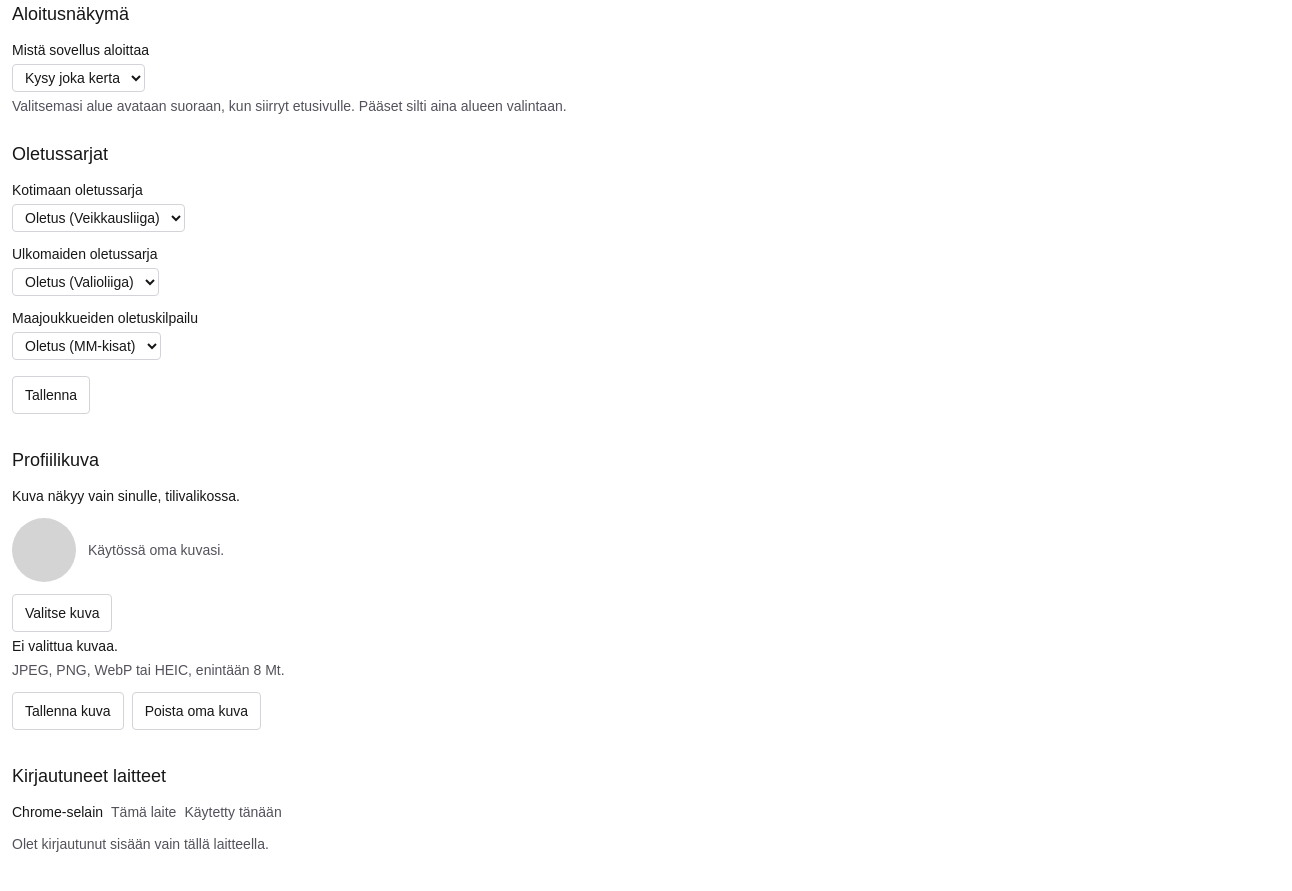
Test: Profiilikuva › reports removing one as done and asks for a reload when the session refresh fails
This screenshot has width=1292, height=891.
Click the button "Poista oma kuva": (196,711) [132, 692, 261, 730]
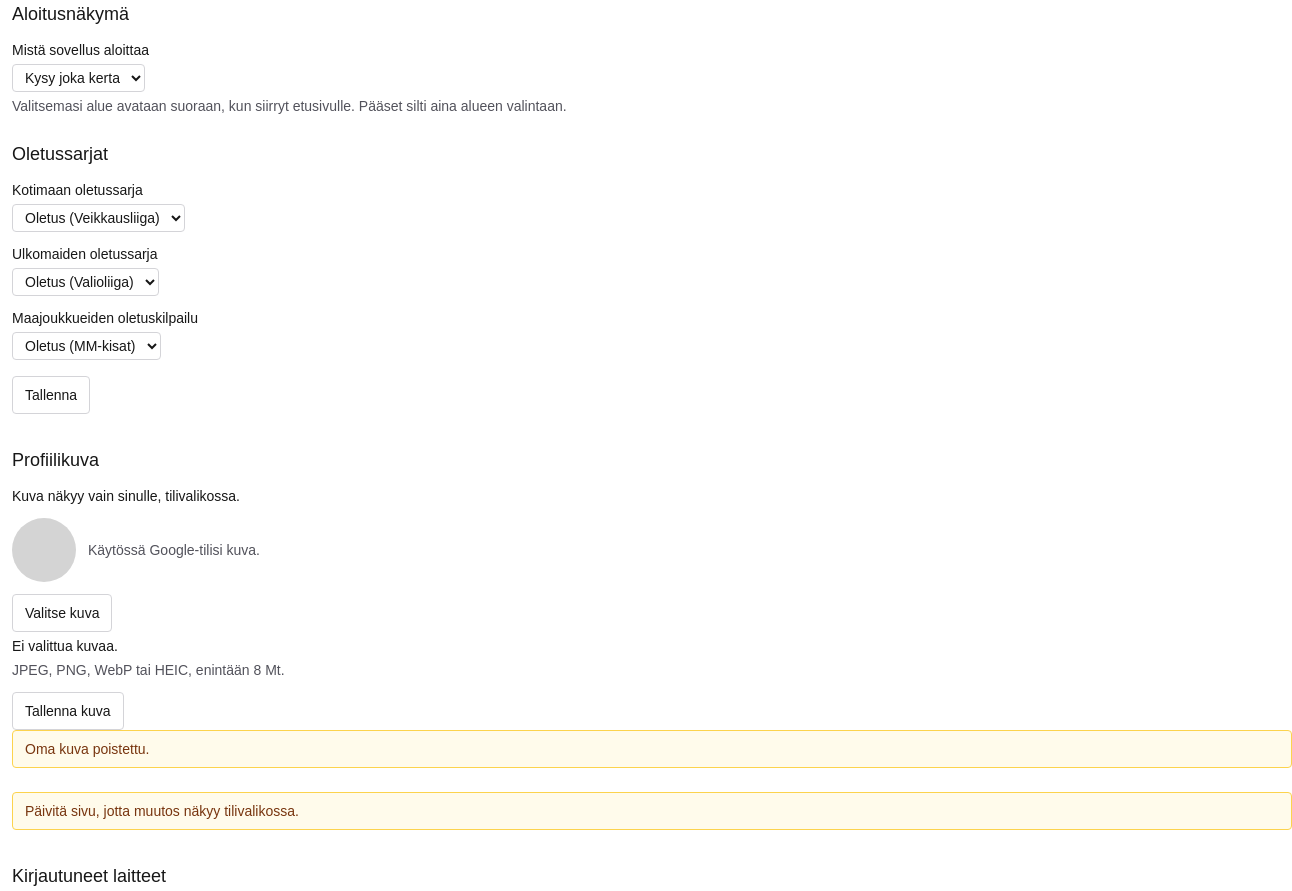
Result: the text "Päivitä sivu, jotta muutos näkyy tilivalikossa." is shown at [12, 792, 1291, 830]
Result: the text "Oma kuva poistettu." is shown at [12, 730, 1291, 768]
